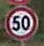limite 50: (3, 6, 39, 39)
